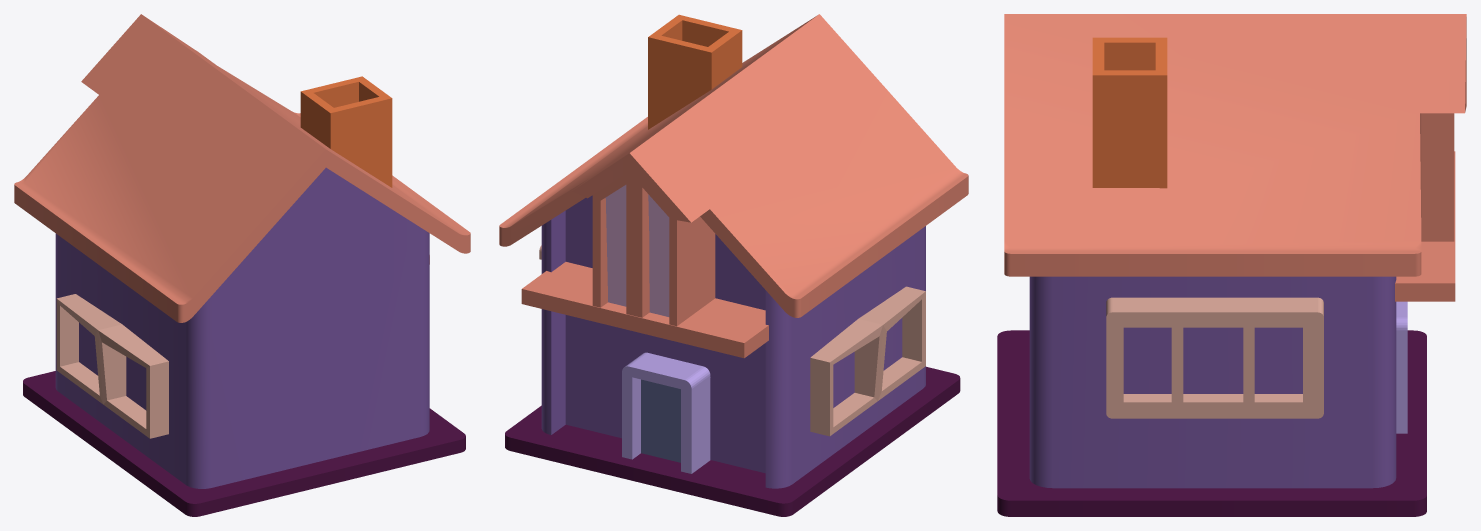
3 renders of one model, left to right at view 1: azimuth 30°, elevation 25°; view 2: azimuth 150°, elevation 25°; view 3: azimuth 270°, elevation 25°, orthographic. The views are drawn at different scales.
Visible parts, largest first — view 1: Cube, Cube.001, Cube.002, Cube.009, Cube.010; view 2: Cube.001, Cube, Cube.002, Cube.009, Plane.001, Cube.010, Cube.003, Plane.002, Plane; view 3: Cube.001, Cube, Cube.002, Cube.008, Cube.010, Plane.001, Cube.003.
Part boxes in pixels (box(x1,y1,x2,y2)): Cube: box(55, 167, 429, 488); Cube.001: box(14, 14, 470, 322); Cube.002: box(23, 371, 465, 516); Cube.009: box(56, 294, 168, 438); Cube.010: box(300, 76, 392, 187); Cube.001: box(499, 14, 968, 326); Cube: box(541, 195, 925, 488); Cube.002: box(505, 366, 960, 516); Cube.009: box(810, 286, 925, 436); Plane.001: box(521, 262, 768, 358); Cube.010: box(648, 14, 742, 129); Cube.003: box(622, 352, 710, 473); Plane.002: box(605, 185, 669, 316); Plane: box(641, 379, 680, 462); Cube.001: box(1004, 14, 1466, 276); Cube: box(1029, 276, 1396, 488); Cube.002: box(997, 330, 1426, 516); Cube.008: box(1106, 297, 1323, 418); Cube.010: box(1092, 37, 1167, 188); Plane.001: box(1395, 151, 1455, 301); Cube.003: box(1396, 301, 1407, 433).
Size of the model in its own units: 2.96 by 3.22 by 3.28.
